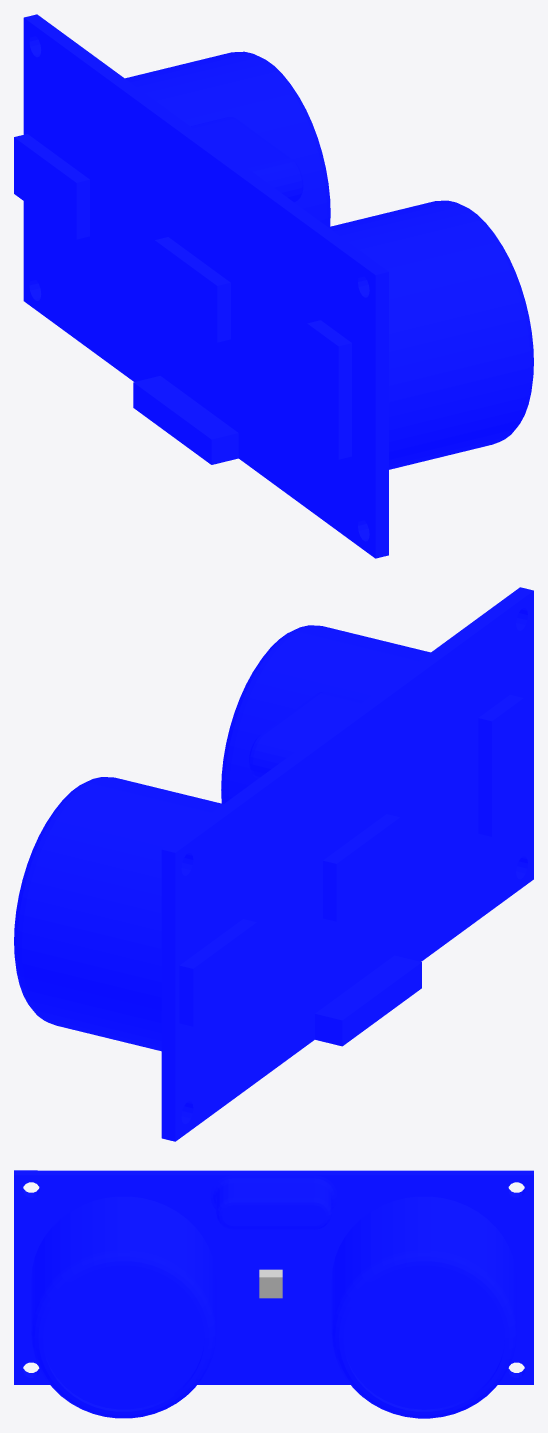
The model's file is ROSCAR2_Sonar.dae.
The picture shows the model from 3 angles, top to bottom: view 1: azimuth 30°, elevation 25°; view 2: azimuth 150°, elevation 25°; view 3: azimuth 270°, elevation 25°; orthographic projection. The views are drawn at different scales.
Visible parts, largest first — view 1: CATIA STL; view 2: CATIA STL; view 3: CATIA STL, Cube.
Part boxes in pixels (<box>): CATIA STL: <box>14,14,533,558</box>; CATIA STL: <box>14,587,533,1141</box>; CATIA STL: <box>14,1170,533,1418</box>; Cube: <box>259,1269,282,1298</box>.
Bounding box in the file's own units: 15 × 45 × 20.
